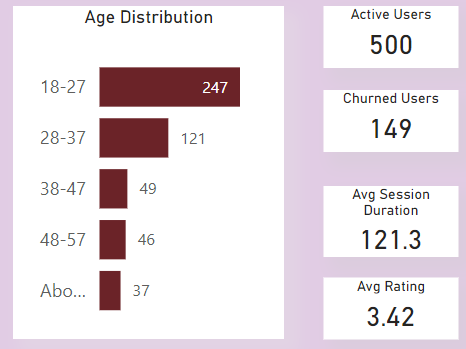

What the dashboard file says about the page in this screenshot:
{"tool":"powerbi","page":{"name":"Tooltip","canvas":[320,240],"ordinal":4},"visuals":[{"type":"barChart","title":"Age Distribution","fields":{"Category":["user_profile_data 2.Age Distribution"],"Y":["Measues Table (2).Active Users"]},"box":[10,10,181,222],"z":0},{"type":"card","title":"Active Users","fields":{"Values":["Measues Table (2).Active Users"]},"box":[217,10,90,41],"z":1000},{"type":"card","title":"Churned Users","fields":{"Values":["Measues Table (2).Churned Users"]},"box":[217,66,90,41],"z":2000},{"type":"card","title":"Avg Session Duration","fields":{"Values":["Measues Table (2).Avg Session Duration"]},"box":[217,130,90,47],"z":3000},{"type":"card","title":"Avg Rating","fields":{"Values":["Measues Table (2).Avg Rating"]},"box":[217,191,90,41],"z":4000}]}

Visuals, with their boxes in screenshot pixels (x1, y1, x2, y2), scaled from the page's 320x240 canvas onto the 466x349 screenshot:
"Age Distribution" barChart: (15, 15, 278, 337)
"Active Users" card: (316, 15, 447, 74)
"Churned Users" card: (316, 96, 447, 156)
"Avg Session Duration" card: (316, 189, 447, 257)
"Avg Rating" card: (316, 278, 447, 337)
